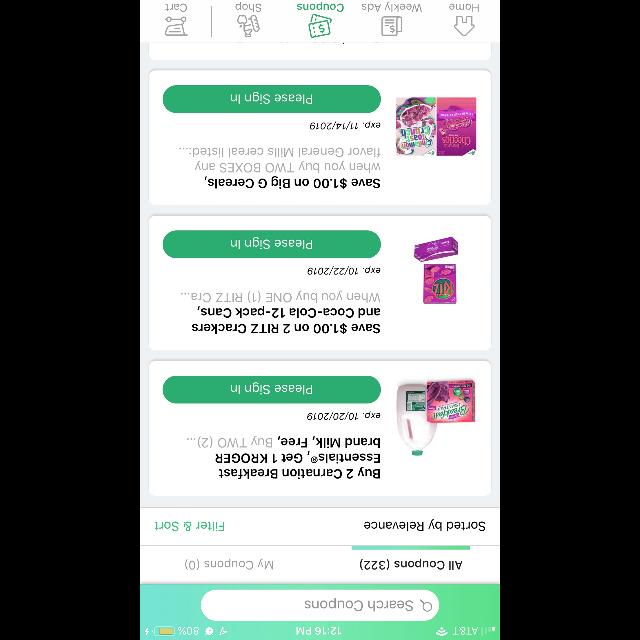icon: (308, 14, 332, 38), (165, 16, 188, 36), (454, 16, 474, 36), (382, 16, 402, 36), (420, 599, 432, 611)
image: (396, 380, 476, 456), (396, 98, 476, 156), (414, 236, 458, 304), (237, 15, 260, 38)
input: (201, 590, 439, 620)
text: (182, 290, 380, 334), (186, 435, 380, 479), (180, 147, 380, 189), (305, 598, 413, 612), (364, 519, 486, 531), (360, 558, 462, 570), (185, 558, 273, 570), (308, 266, 380, 276), (310, 120, 380, 130), (154, 521, 223, 531), (362, 1, 422, 12), (308, 412, 380, 421), (296, 2, 344, 12), (235, 1, 261, 12), (449, 4, 479, 12), (165, 4, 187, 12)
textbutton: (163, 375, 381, 403), (163, 230, 381, 258), (163, 85, 381, 113)
uppertaskbar: (140, 626, 500, 640)
